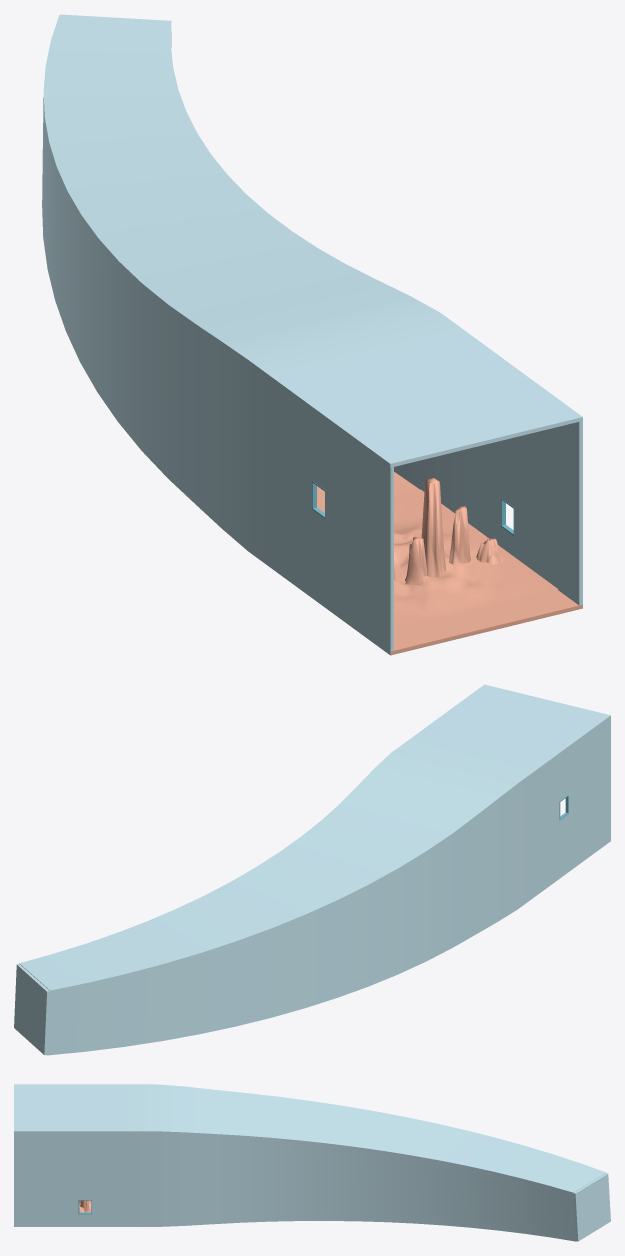
The model's file is 06 coin river_mapping.fbx.
The picture shows the model from 3 angles, top to bottom: view 1: azimuth 30°, elevation 25°; view 2: azimuth 150°, elevation 25°; view 3: azimuth 270°, elevation 25°; orthographic projection. The views are drawn at different scales.
Visible parts, largest first — view 1: Cube_5_Null, Ground, Landscape_7; view 2: Cube_5_Null; view 3: Cube_5_Null.
Part boxes in pixels (x1,y1,x2,y2): Cube_5_Null: (42, 14, 582, 655); Ground: (324, 489, 558, 629); Landscape_7: (394, 476, 502, 584); Cube_5_Null: (14, 684, 610, 1055); Cube_5_Null: (14, 1084, 610, 1241).
Bounding box in the file's own units: 2792 × 1483 × 8380.
5 materials, 5 textured.
